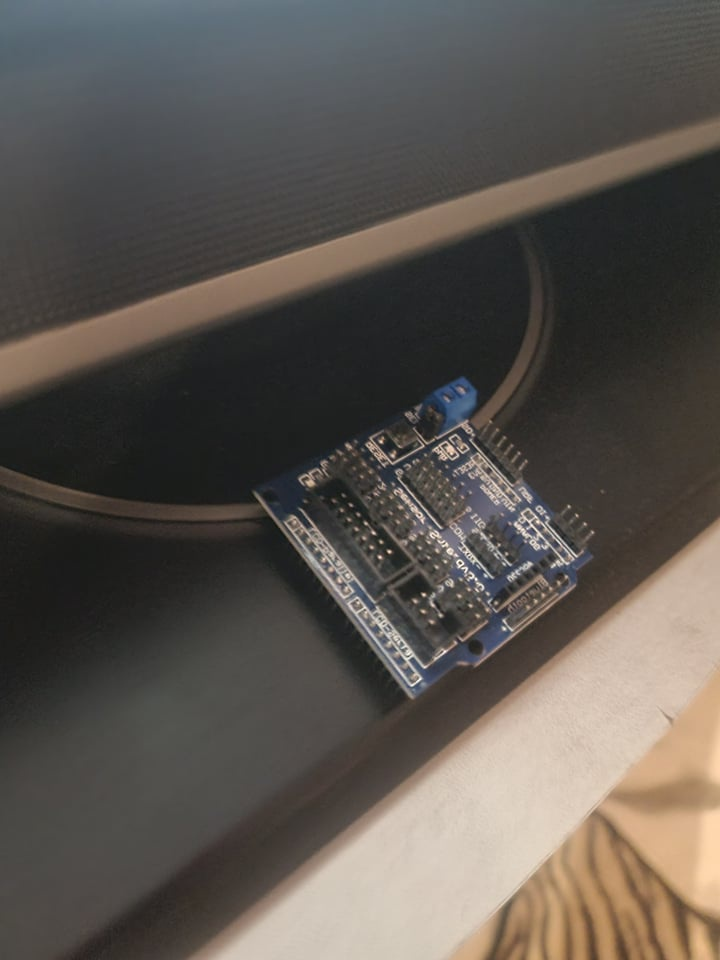5V EXPANSION: (247, 377, 598, 704)
